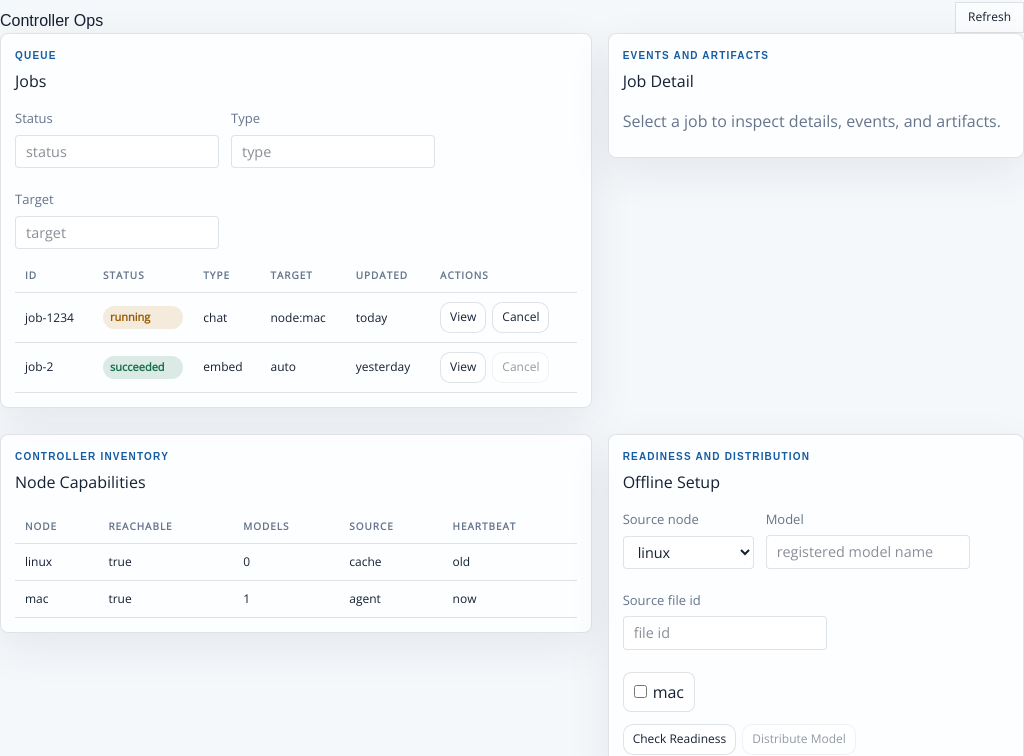
Test case: checks offline readiness and distributes a source model
This screenshot has width=1024, height=756.
Select "mac" in the dropdown with test id "offline-source-node": coordinates (688, 552) top-left (623, 536), bottom-right (754, 569)
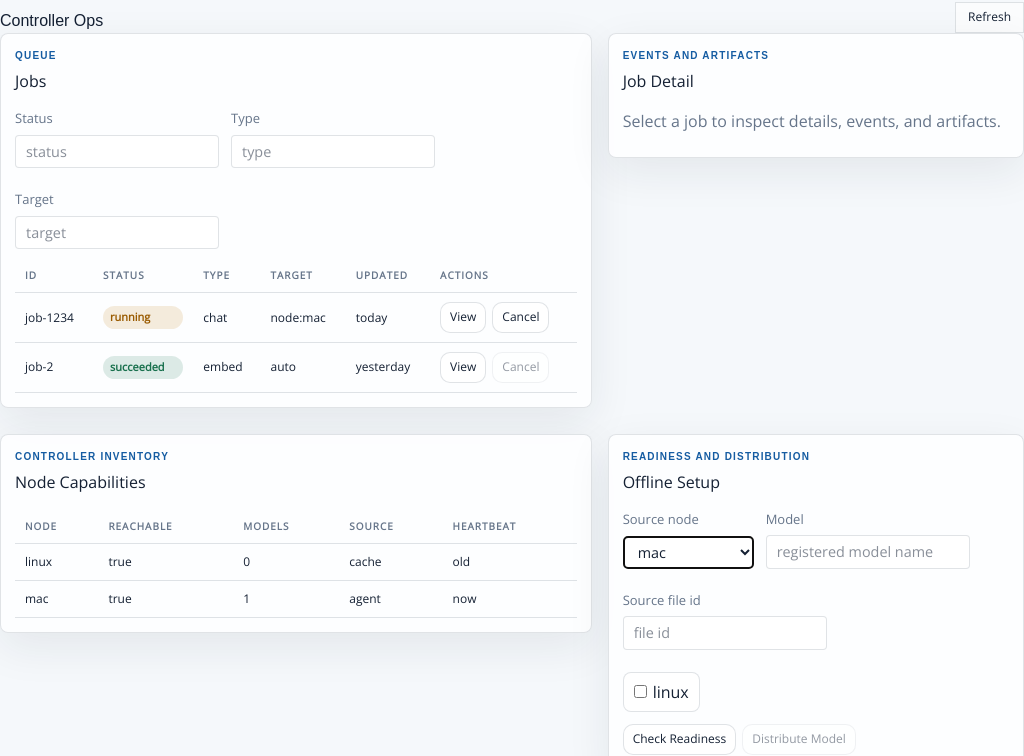
In the field labelled "Model": coordinates (868, 552) top-left (766, 535), bottom-right (970, 569), type "qwen"
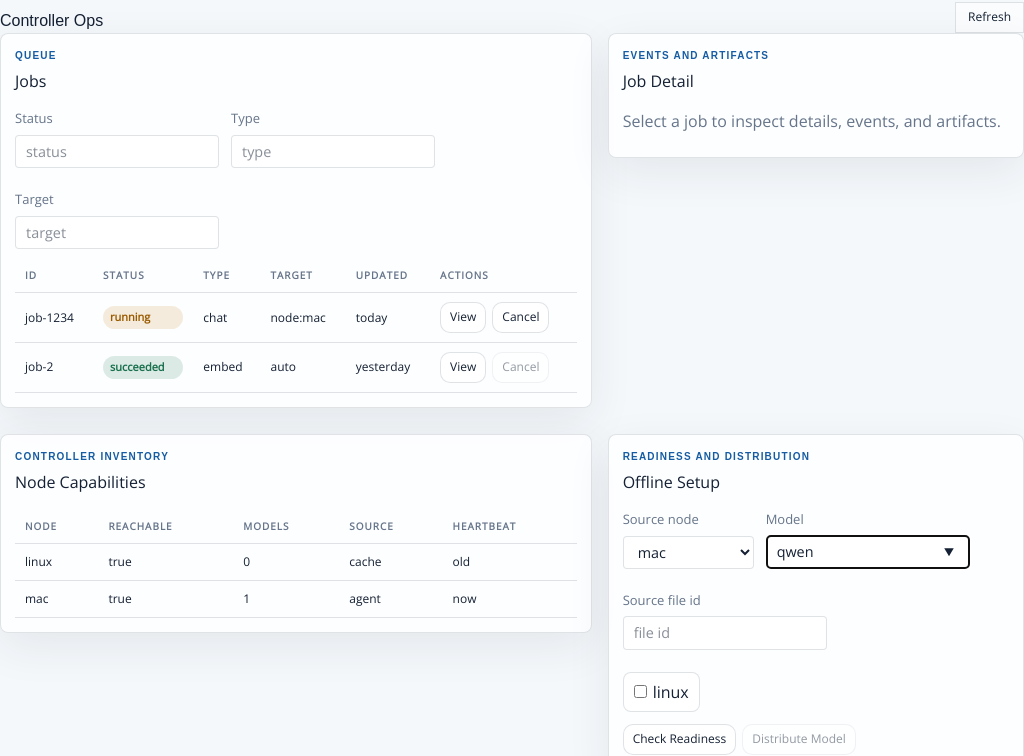
In the field labelled "Source file id": coordinates (725, 633) top-left (623, 616), bottom-right (827, 650), type "file-qwen"
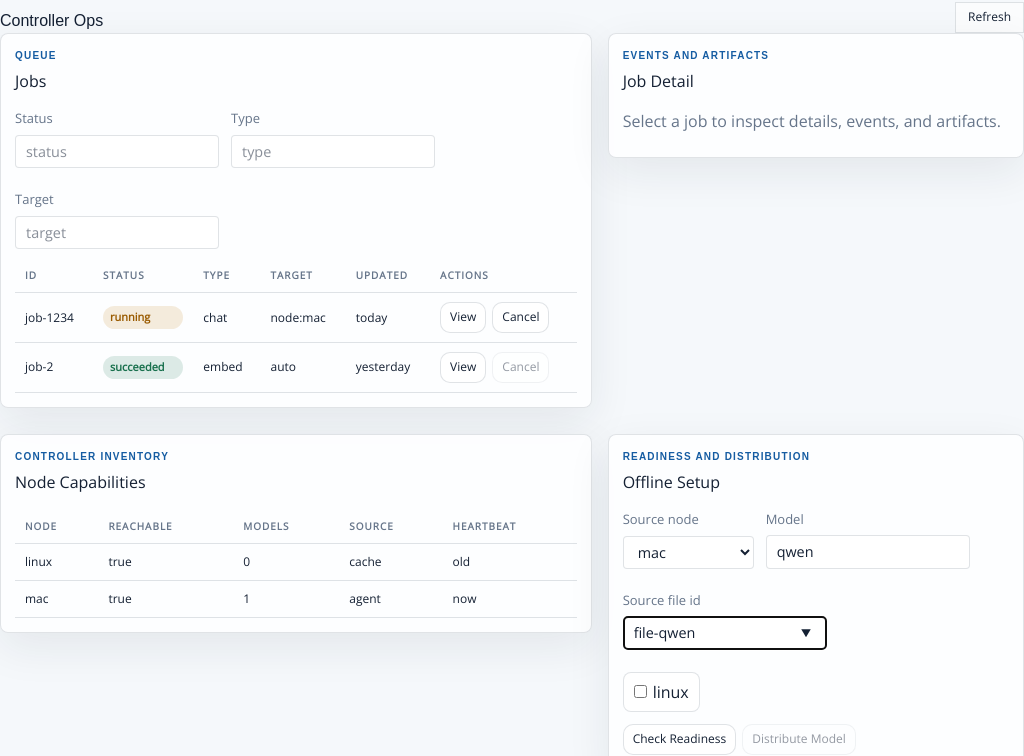
Click the checkbox labelled "linux": coordinates (640, 692) top-left (634, 685), bottom-right (647, 698)
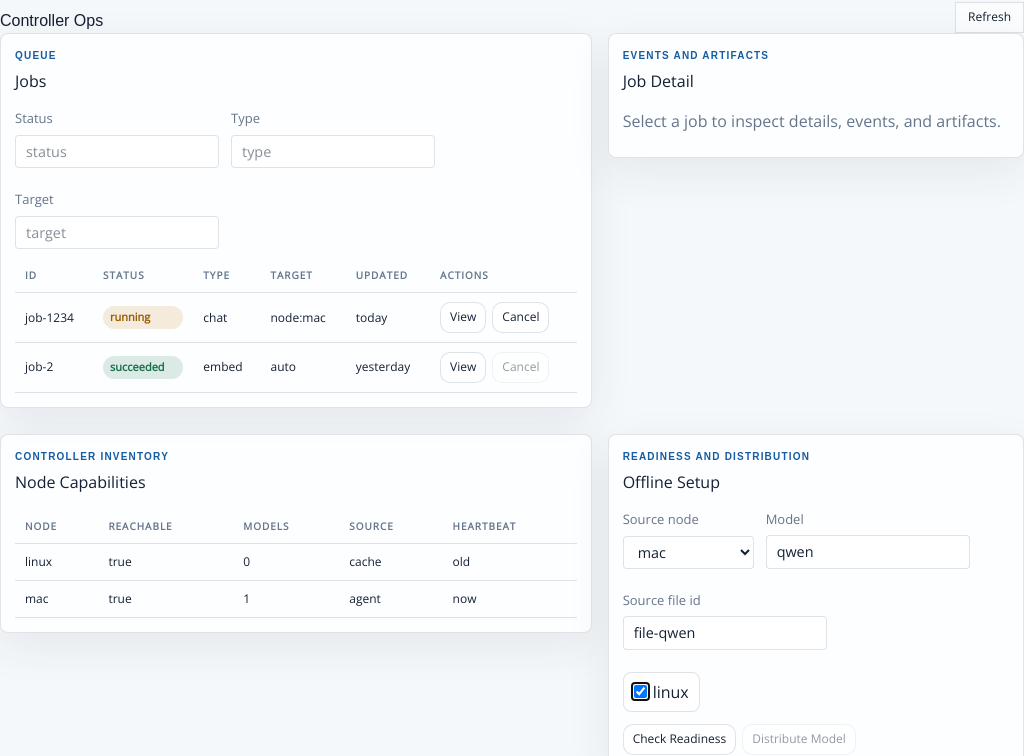
Click the button "Check Readiness": coordinates (679, 739) top-left (623, 724), bottom-right (736, 755)
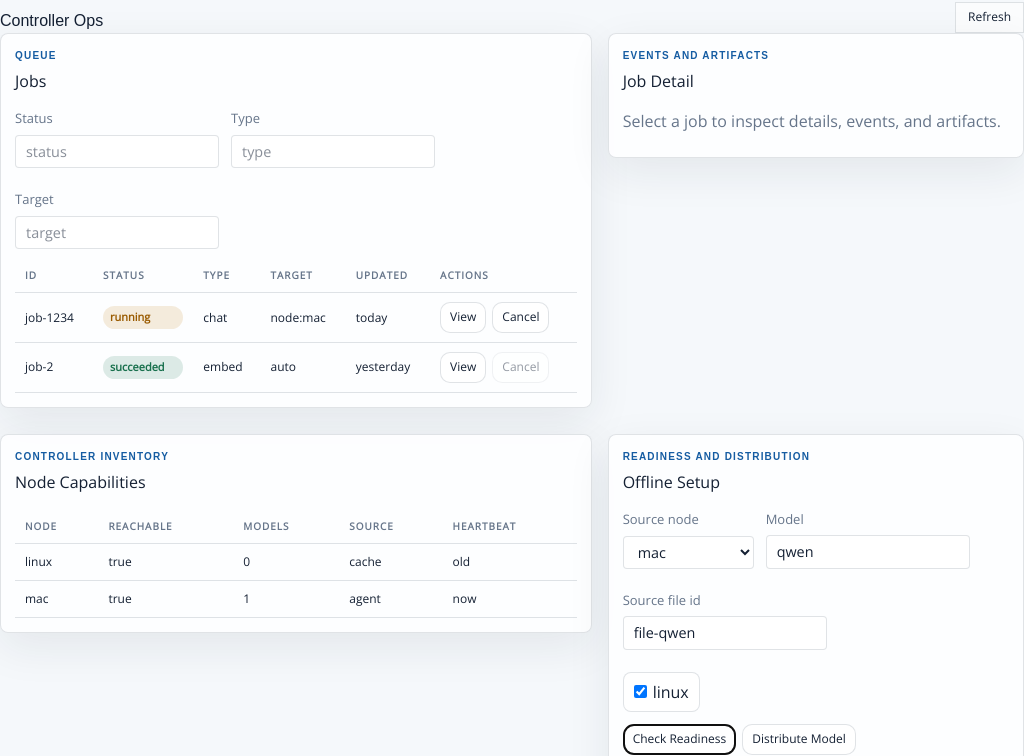
Click the button "Distribute Model": coordinates (799, 739) top-left (742, 724), bottom-right (856, 755)
(page scrolled)
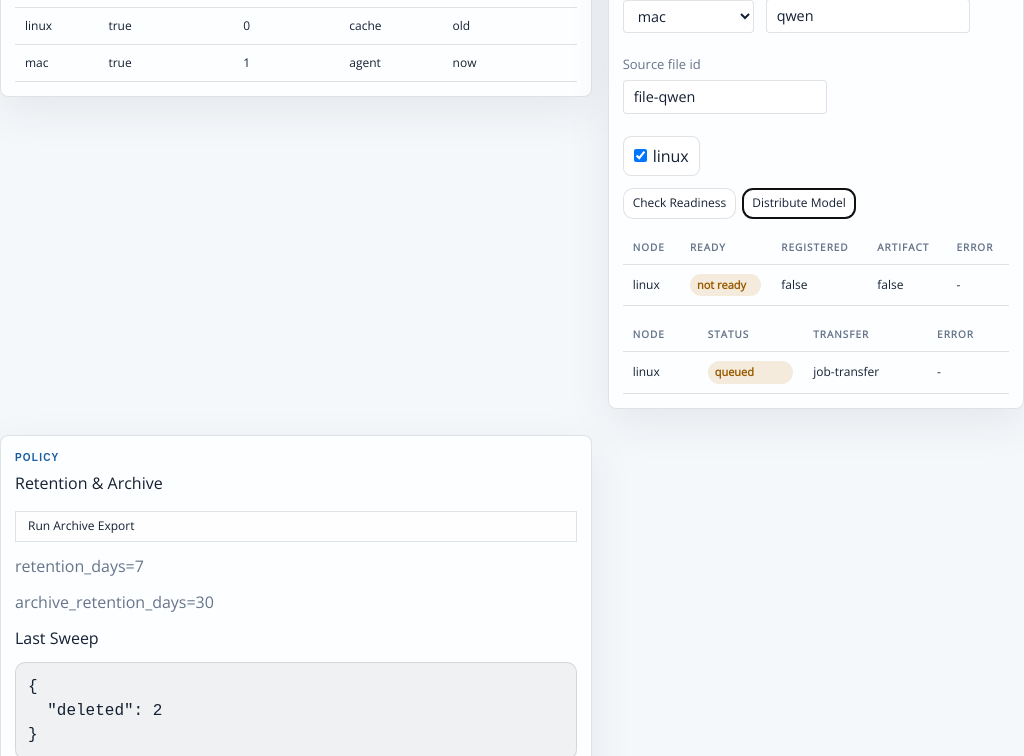
Result: the text "job-transfer" is shown at top-left (803, 352), bottom-right (927, 393)
